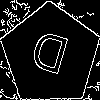D: (25, 30, 71, 84)
